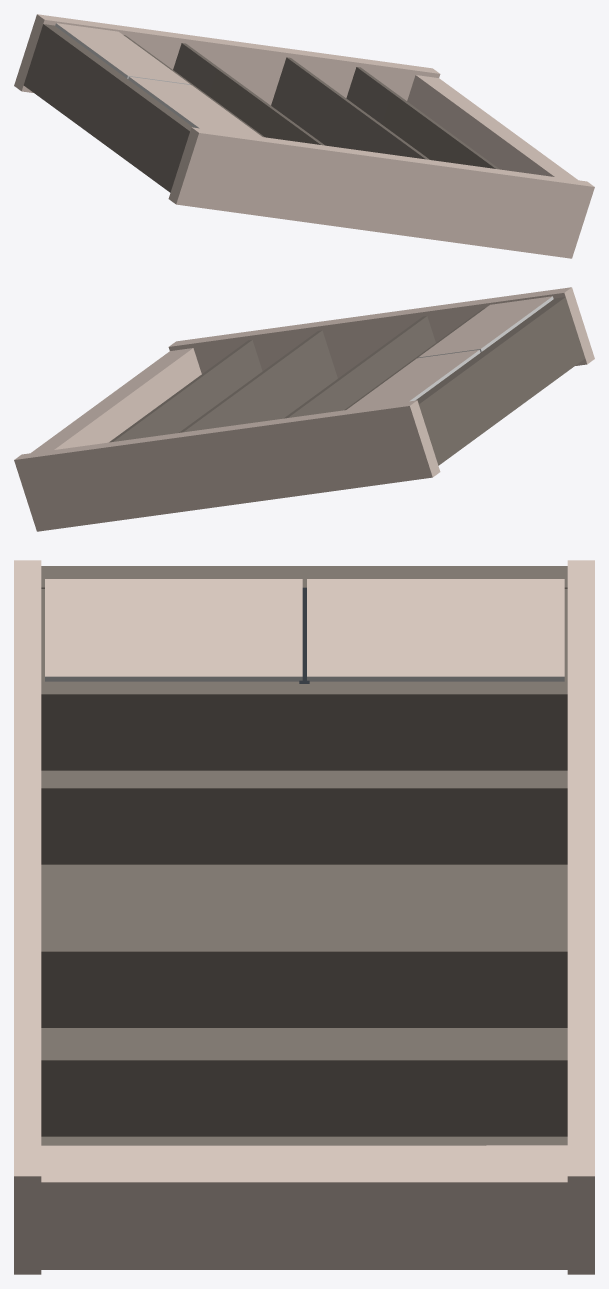
The model's file is SM_M_Government_Office_Bookcase_11_ATLAS.fbx.
3 renders of one model, top to bottom at view 1: azimuth 30°, elevation 25°; view 2: azimuth 150°, elevation 25°; view 3: azimuth 270°, elevation 25°, orthographic. The views are drawn at different scales.
Visible parts, largest first — view 1: SM_M_Government_Office_Bookcase_11_ATLAS_LOD0; view 2: SM_M_Government_Office_Bookcase_11_ATLAS_LOD0; view 3: SM_M_Government_Office_Bookcase_11_ATLAS_LOD0.
Boxes of the visible parts, left/top/right/bottom form: SM_M_Government_Office_Bookcase_11_ATLAS_LOD0: left=14, top=14, right=594, bottom=258; SM_M_Government_Office_Bookcase_11_ATLAS_LOD0: left=14, top=287, right=594, bottom=531; SM_M_Government_Office_Bookcase_11_ATLAS_LOD0: left=14, top=560, right=594, bottom=1274.
Bounding box in the file's own units: 418 × 280 × 207.
